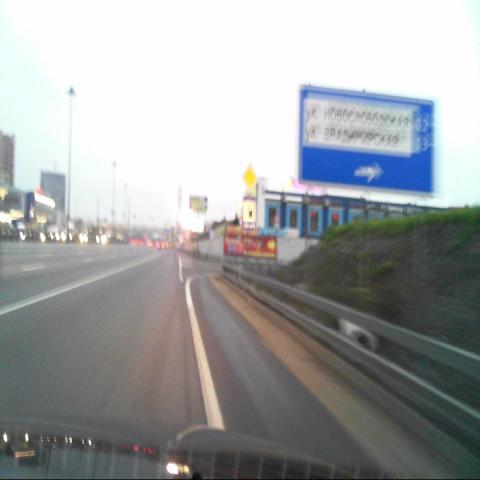2_1: (242, 162, 257, 192)
7_3: (243, 196, 256, 231)
